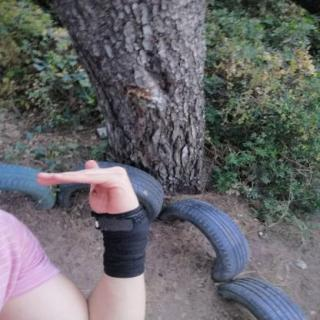KHAA: (24, 154, 152, 227)
